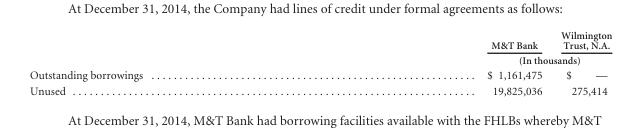table: (28, 29, 611, 96)
table column: (28, 29, 314, 96), (314, 29, 550, 96), (550, 29, 611, 96)
table column header: (28, 29, 611, 67)
table row: (28, 29, 611, 52), (28, 52, 611, 67), (28, 67, 611, 82), (28, 82, 611, 96)
table spanning cell: (314, 52, 611, 67)
